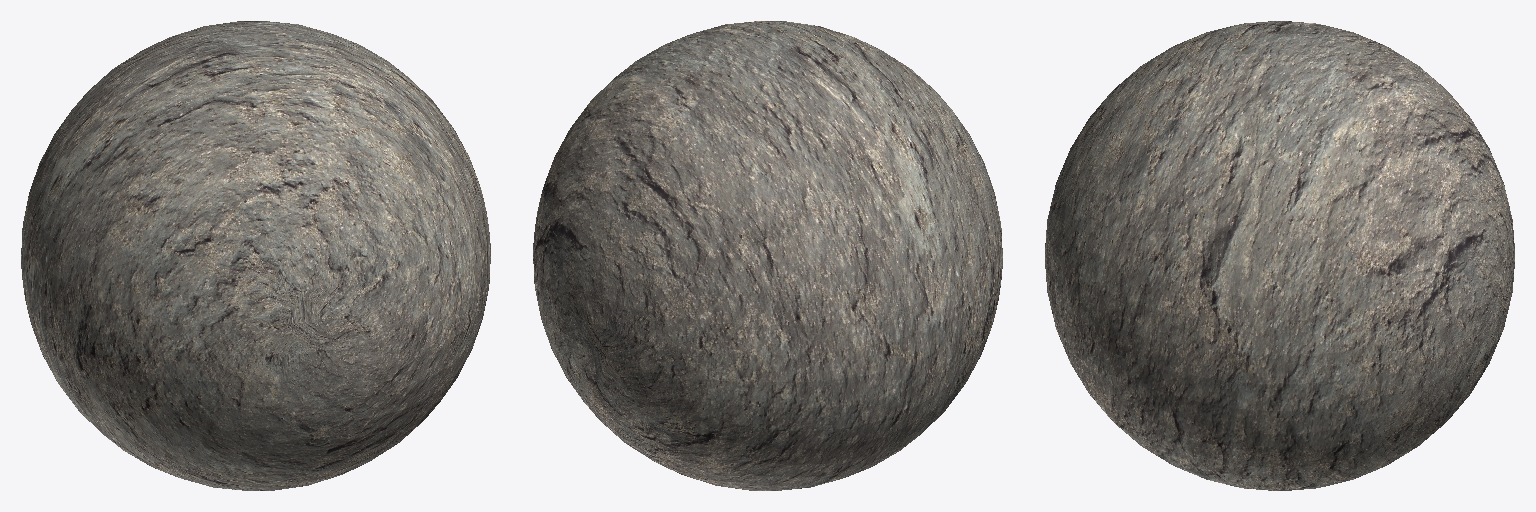
3 renders of one model, left to right at view 1: azimuth 30°, elevation 25°; view 2: azimuth 150°, elevation 25°; view 3: azimuth 270°, elevation 25°, orthographic.
Visible parts, largest first — view 1: Icosphere; view 2: Icosphere; view 3: Icosphere.
Part boxes in pixels (x1,y1,x2,y2): Icosphere: (21,21,490,490); Icosphere: (533,21,1002,490); Icosphere: (1045,21,1514,490).
Size of the model in its own units: 2 by 2 by 2.
Materials: 1 (1 with a texture image).